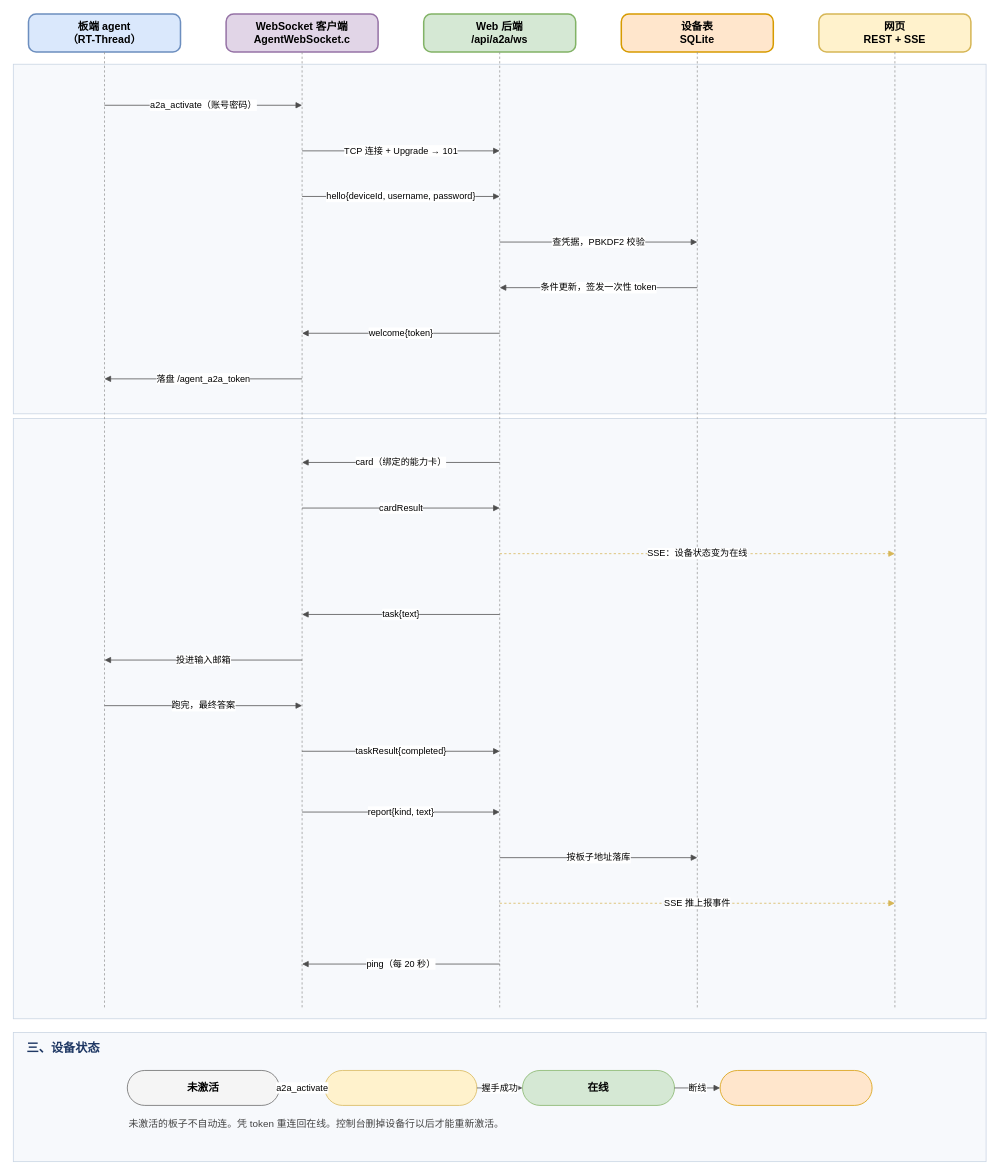
Image size: 999x1175. Some labels were removed from this diagram. Each missing label, with the box of its shape:
一、激活：账号密码换一次性设备 token: (13, 63, 986, 414)
二、在线：能力卡、任务、上报、心跳，都在同一条连接上: (13, 418, 986, 1019)
未在线: (719, 1070, 872, 1105)
激活中: (324, 1070, 477, 1105)
